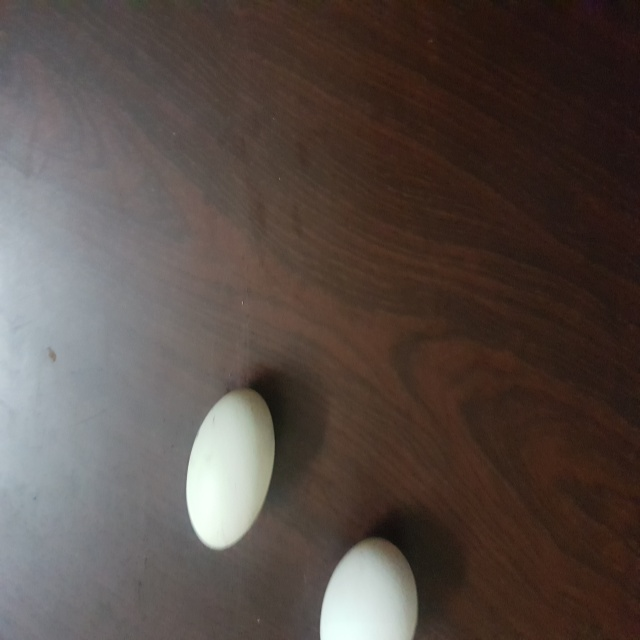eggs: (184, 385, 277, 554), (319, 537, 419, 636)
